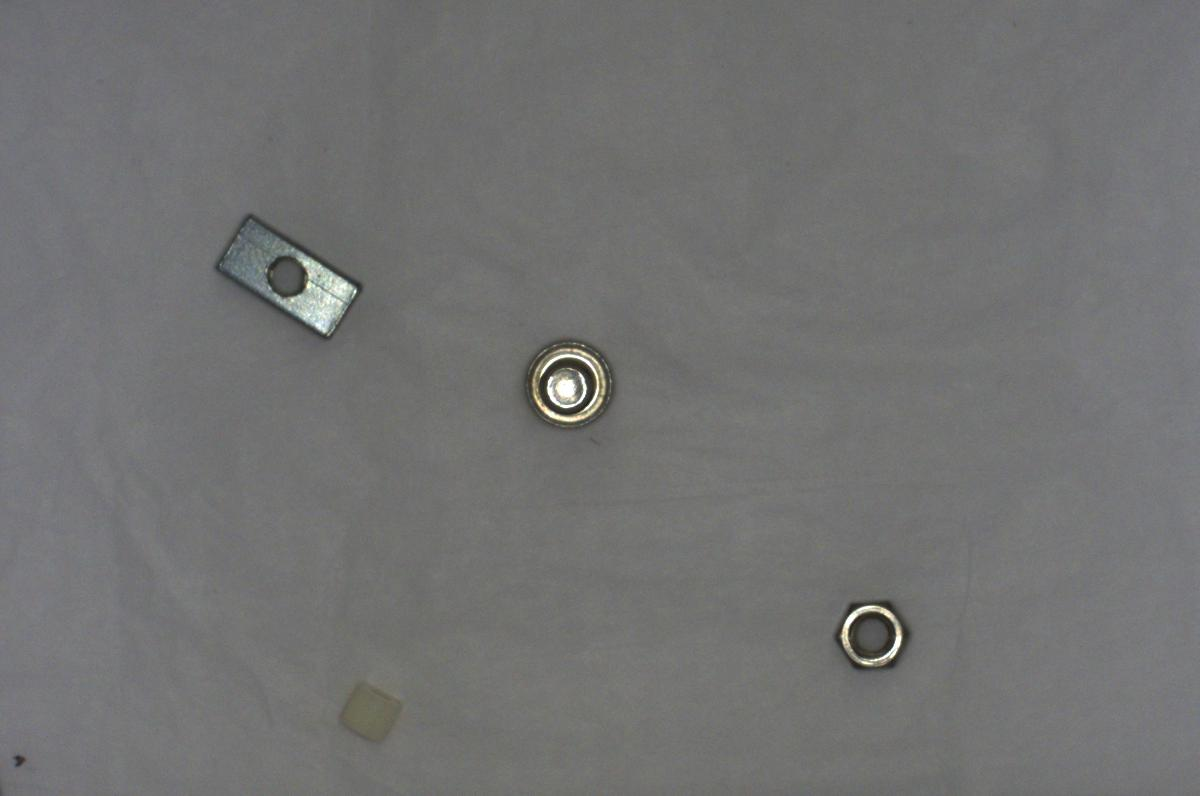Hexagon nut: (825, 588, 911, 672)
Hexagon screw: (517, 335, 619, 434)
Plastic cushion pillar: (333, 676, 404, 745)
Rectangular nut: (211, 210, 362, 336)
